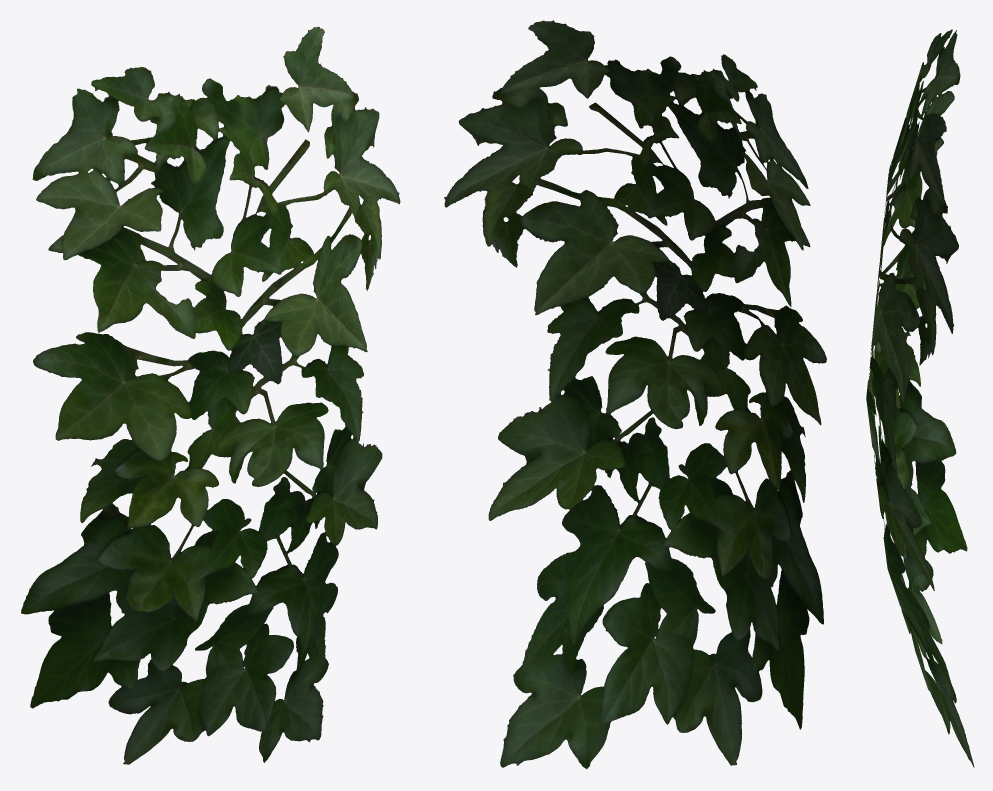
Rendered from ivy_default.obj.
3 renders of one model, left to right at view 1: azimuth 30°, elevation 25°; view 2: azimuth 150°, elevation 25°; view 3: azimuth 270°, elevation 25°, orthographic. The views are drawn at different scales.
Visible parts, largest first — view 1: ivy_default; view 2: ivy_default; view 3: ivy_default.
Part boxes in pixels (x1,y1,x2,y2): ivy_default: [21, 26, 400, 764]; ivy_default: [444, 20, 826, 769]; ivy_default: [866, 29, 974, 767].
Size of the model in its own units: 65.53 by 120 by 18.76.
1 material, 1 textured.
